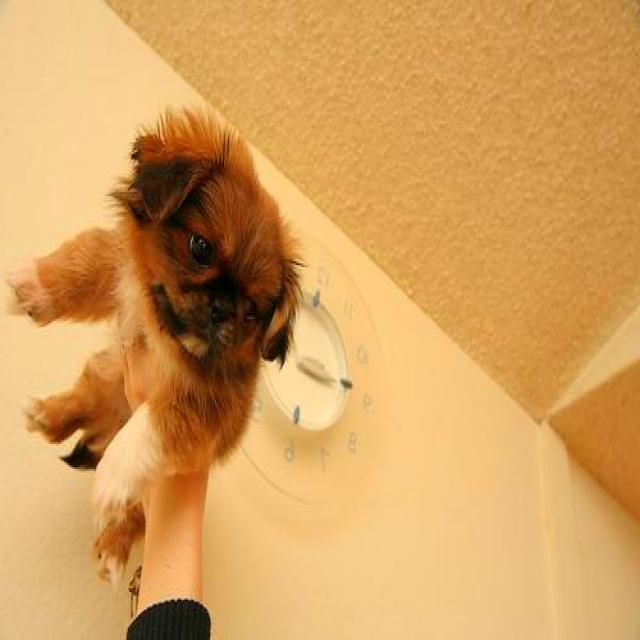pekinese: (4, 96, 308, 594)
